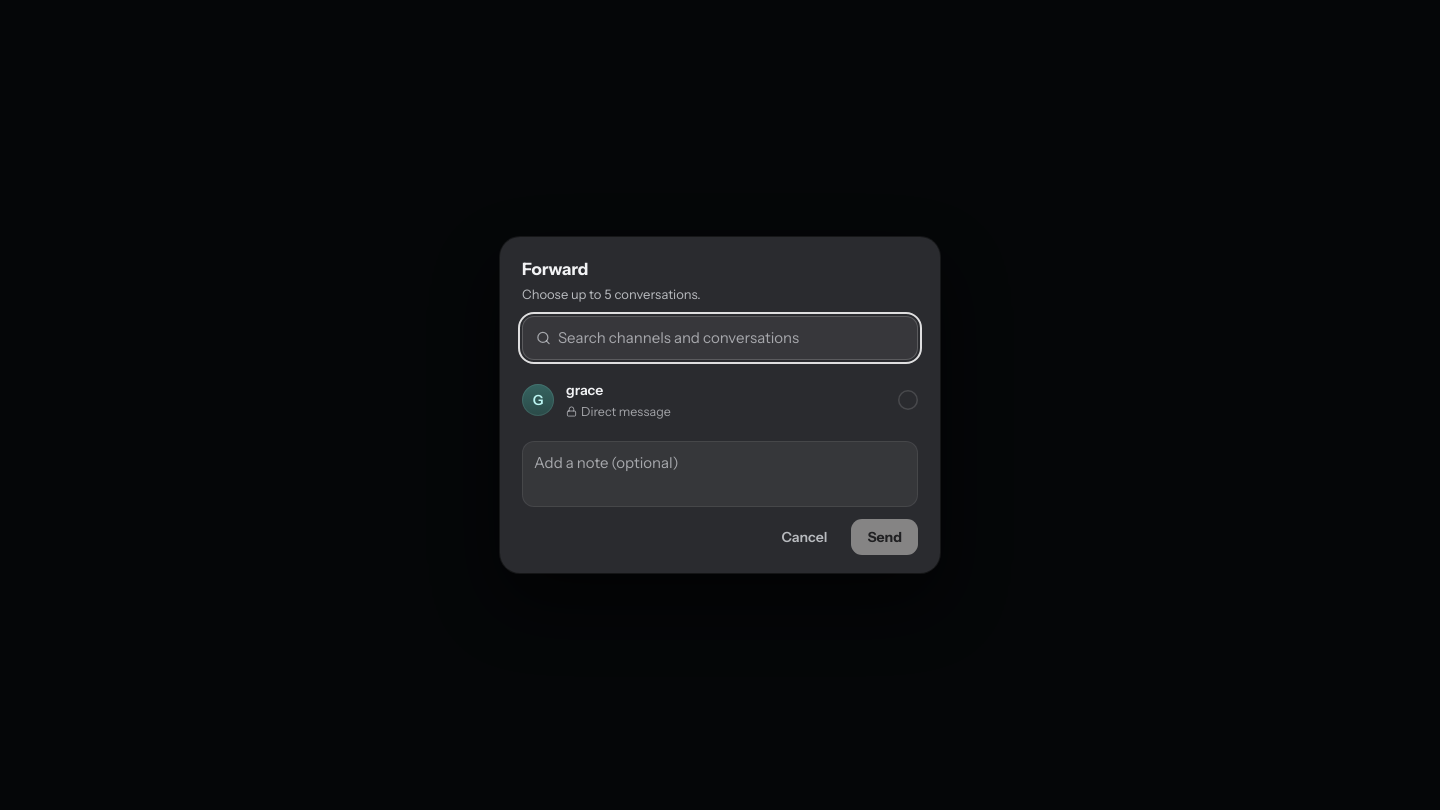
Test case: ForwardPicker › asks to unlock encryption before forwarding into a direct message, and sends nothing
What coordinates should you click on to do the following:
click the text "grace"
I would click on:
 (585, 390)
Its box is left=566, top=381, right=603, bottom=399.
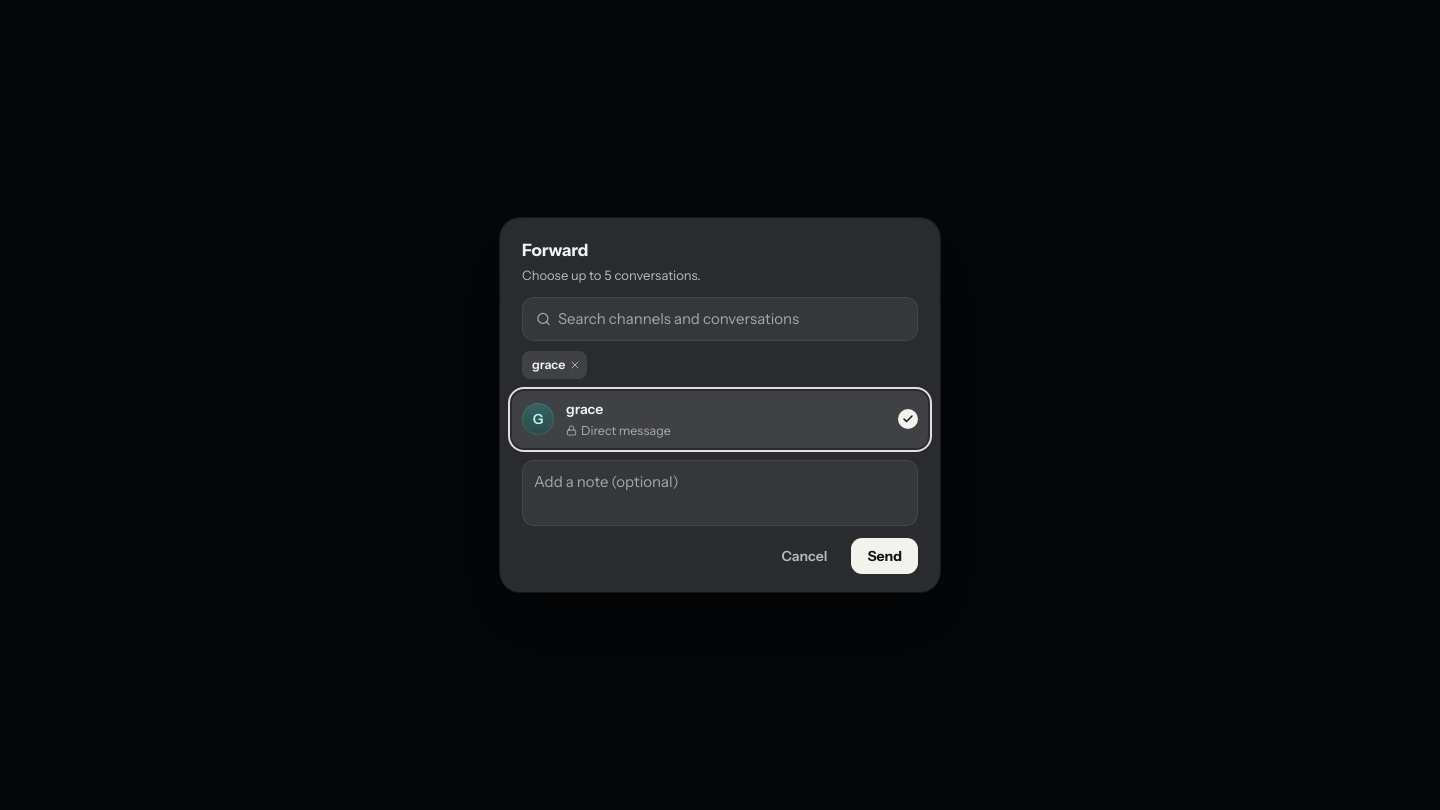
What coordinates should you click on to do the following:
click the button "Send"
I would click on:
 (885, 556)
Its box is left=851, top=538, right=918, bottom=574.
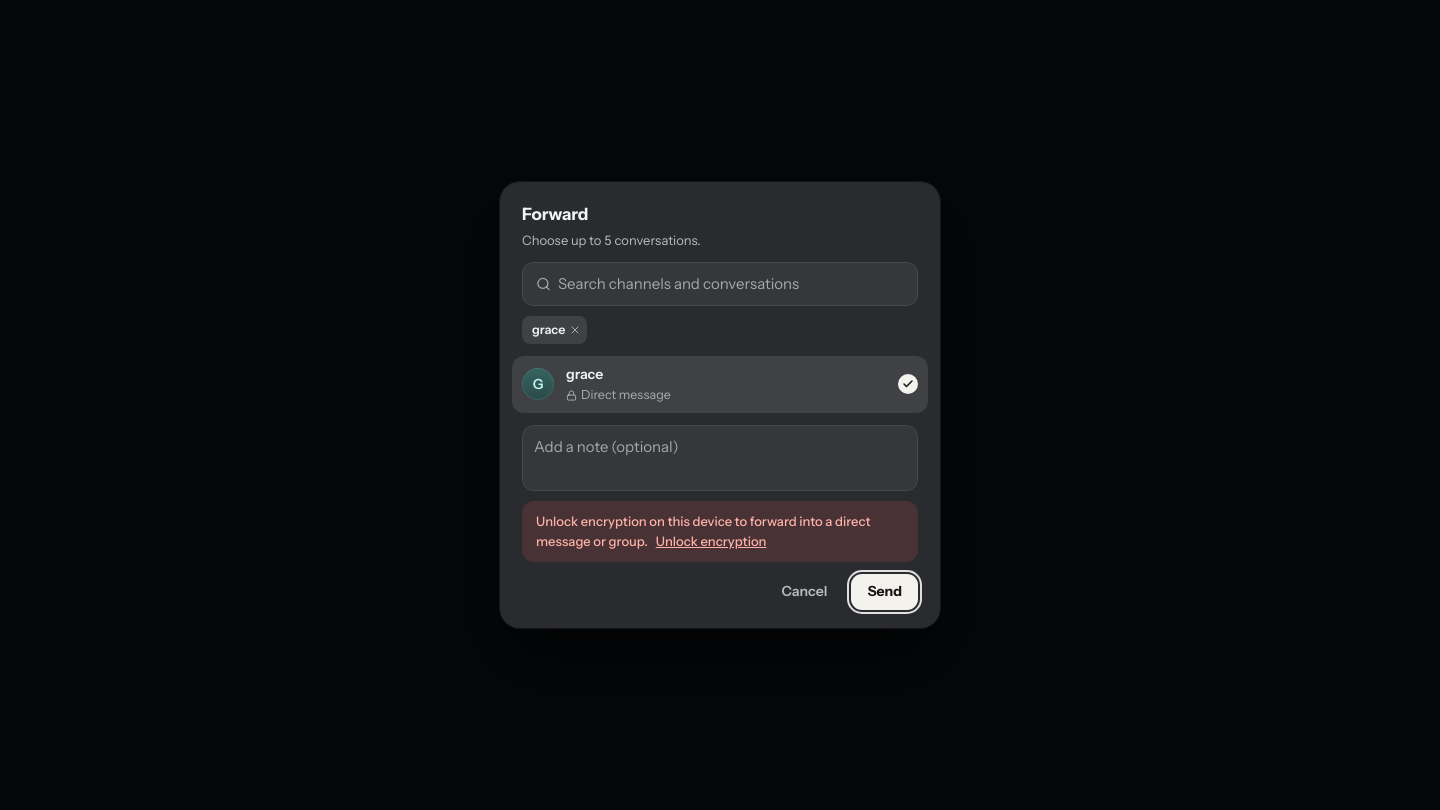
Check: the message shows "Unlock encryption on this device", box left=536, top=513, right=870, bottom=549
